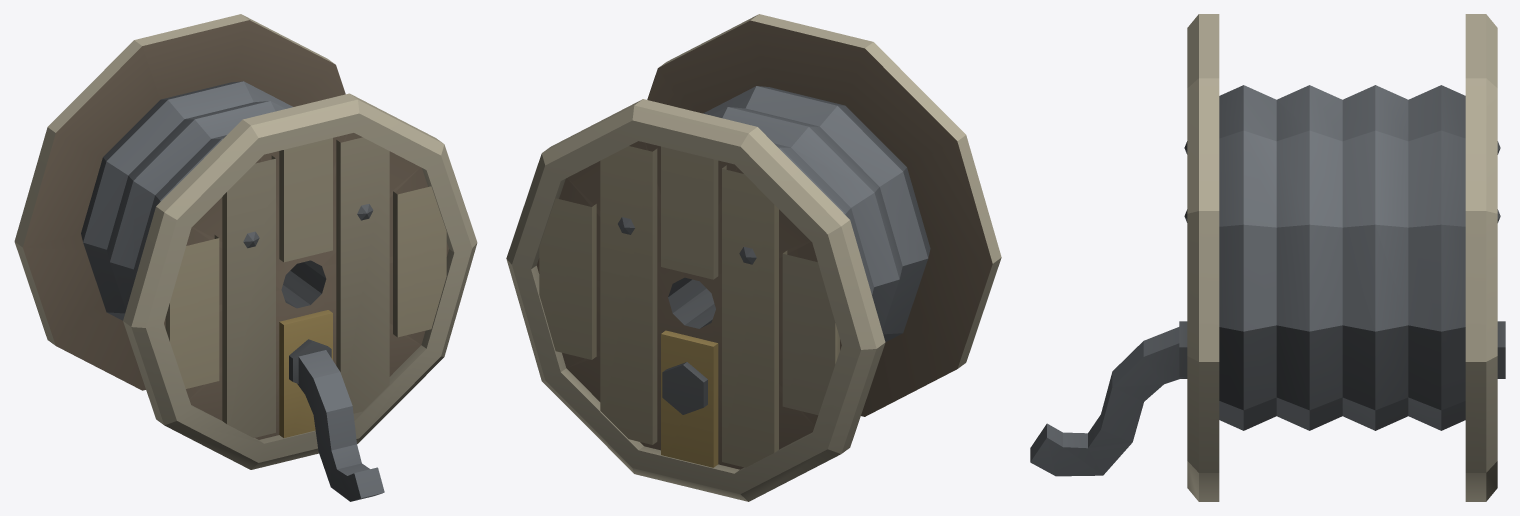
The model's file is cable.glb.
3 renders of one model, left to right at view 1: azimuth 30°, elevation 25°; view 2: azimuth 150°, elevation 25°; view 3: azimuth 270°, elevation 25°, orthographic. The views are drawn at different scales.
Visible parts, largest first — view 1: cable; view 2: cable; view 3: cable.
Part boxes in pixels (x1=…): cable: x1=14, y1=14, x2=477, y2=501; cable: x1=506, y1=14, x2=1001, y2=501; cable: x1=1030, y1=14, x2=1505, y2=501.
Size of the model in its own units: 1.16 by 1.1 by 1.12.
